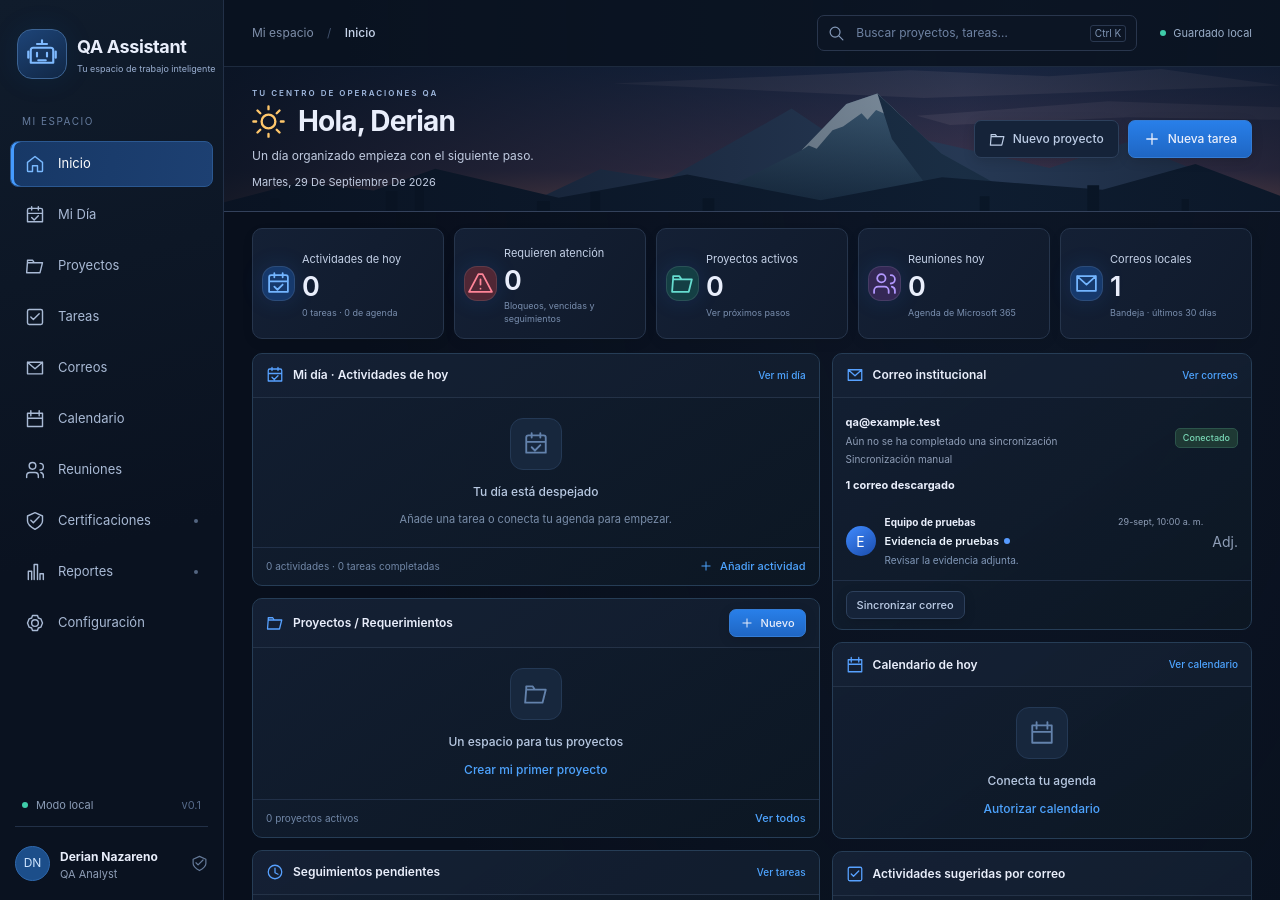
Test: expone un fallo de borrador sin abrir un formulario ni crear datos
This screenshot has width=1280, height=900.
Click the button "Evidencia de pruebas": (930, 522) [846,503,1238,580]
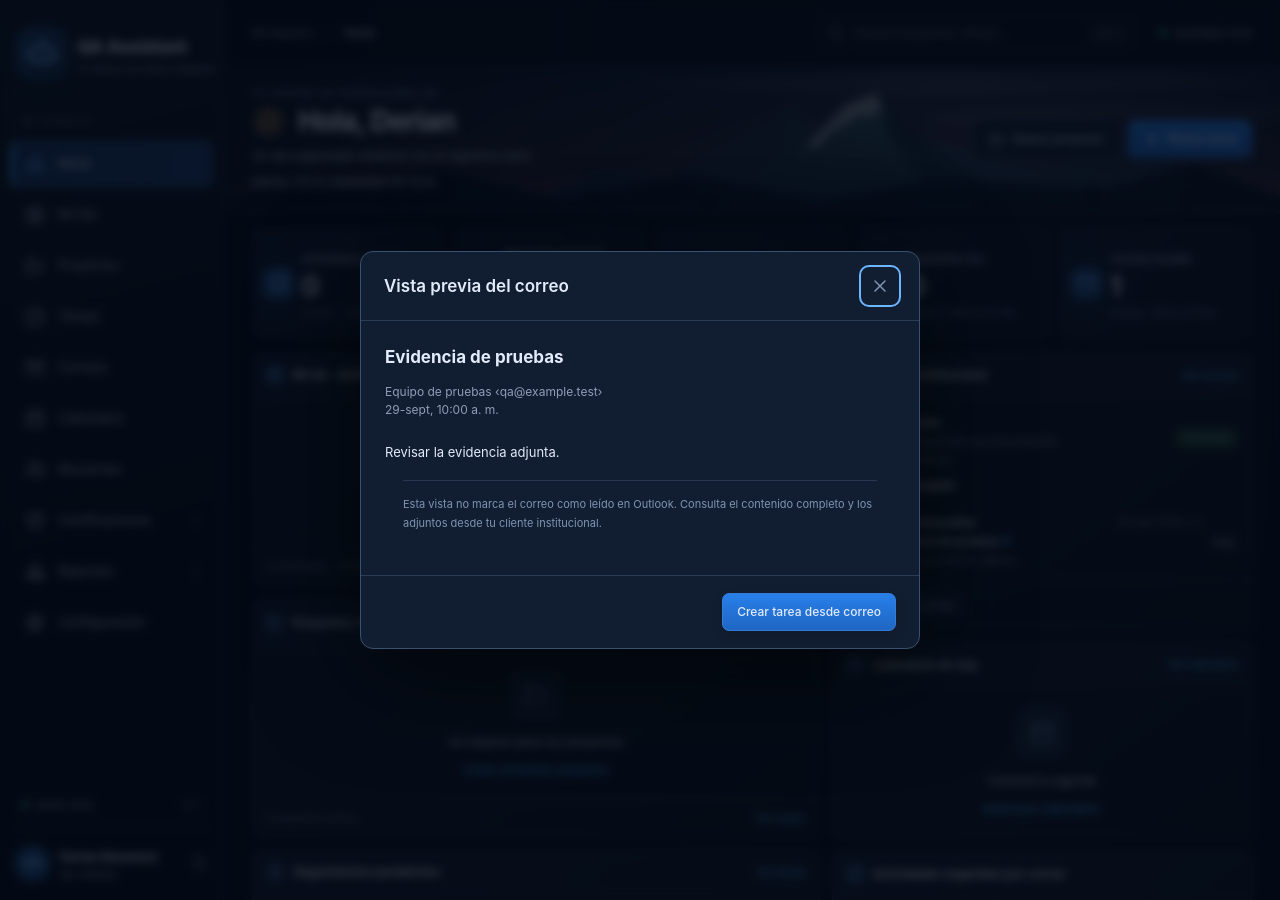
Click the button "Crear tarea desde correo": (809, 612) [722,593,896,631]
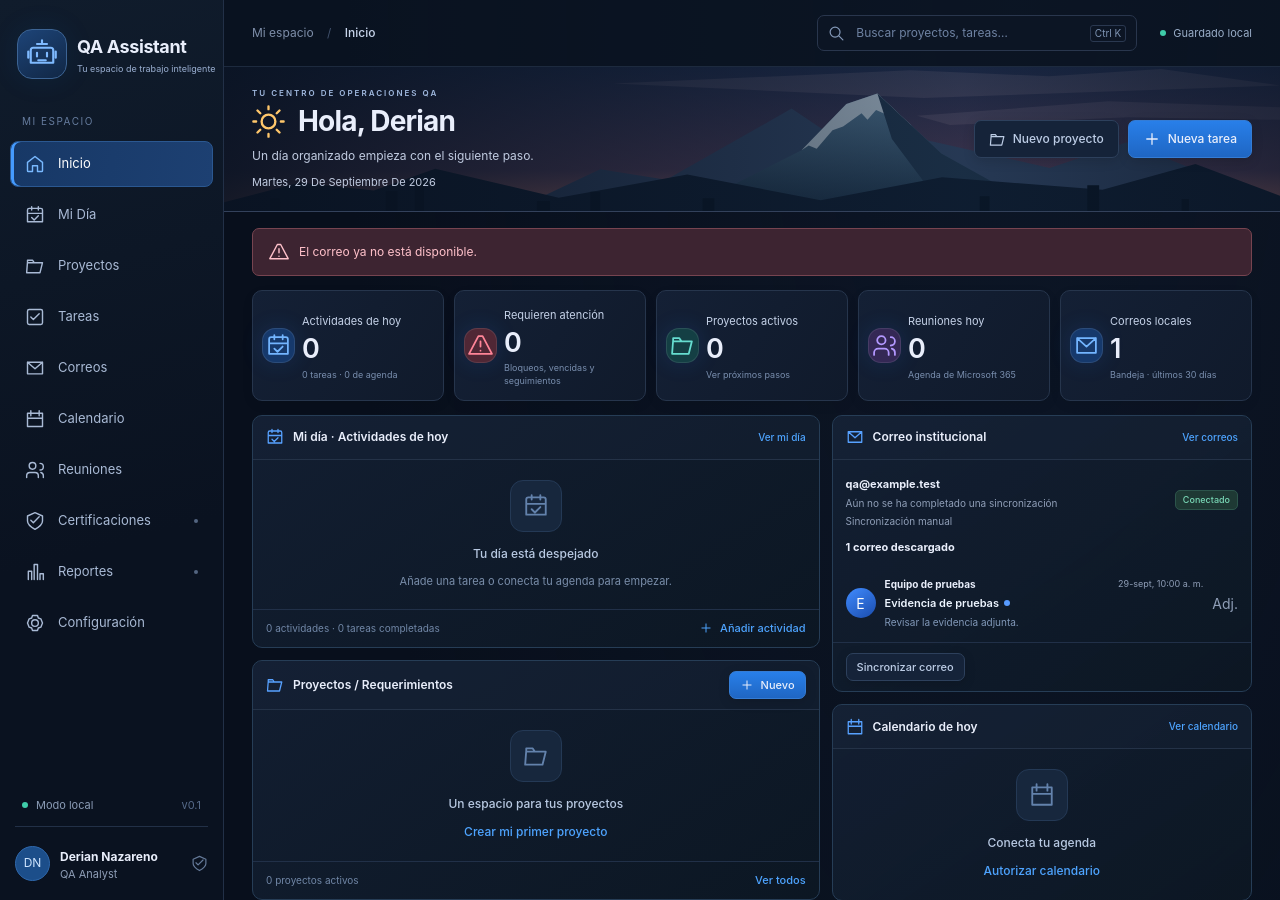
Result: the message reads "El correo ya no está disponible." at [299,244,477,259]
Result: the dialog is gone
